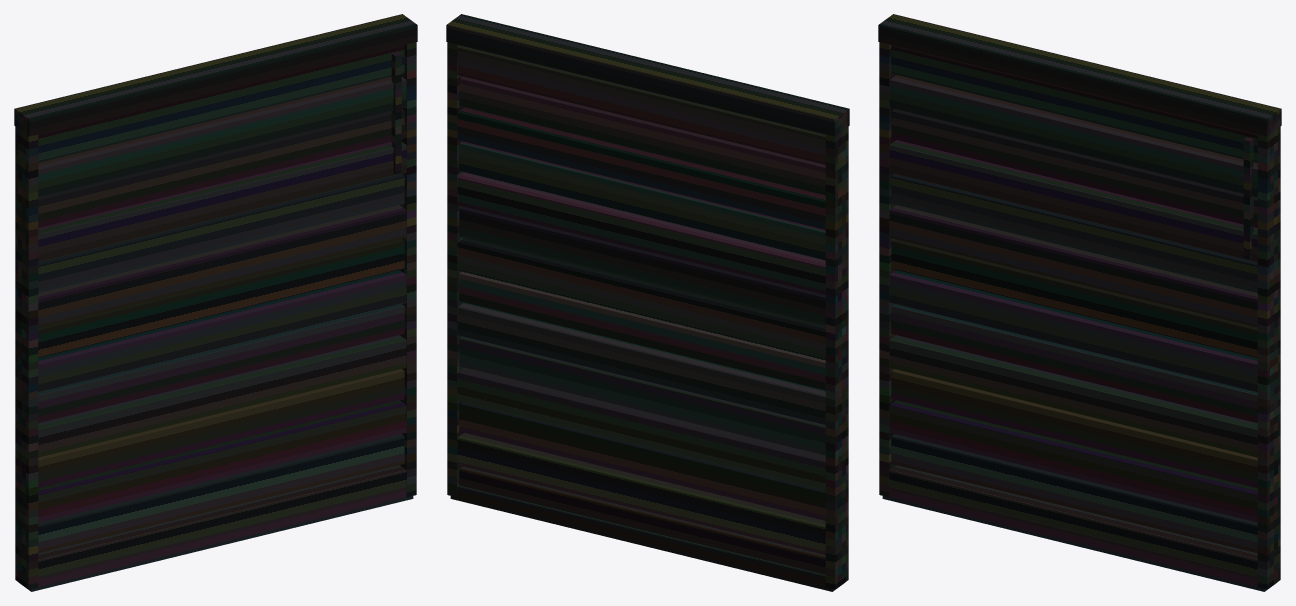
File: WindowBlinds.glb
3 views of the same model, side by side, from view 1: azimuth 30°, elevation 25°; view 2: azimuth 150°, elevation 25°; view 3: azimuth 330°, elevation 25° (orthographic).
Visible parts, largest first — view 1: Blinds; view 2: Blinds; view 3: Blinds.
Part boxes in pixels (<box>): Blinds: <box>14,14,417,591</box>; Blinds: <box>446,14,849,591</box>; Blinds: <box>878,14,1281,591</box>.
Bounding box in the file's own units: 1.2 × 1.4 × 0.082.
Materials: 1 (1 with a texture image).
